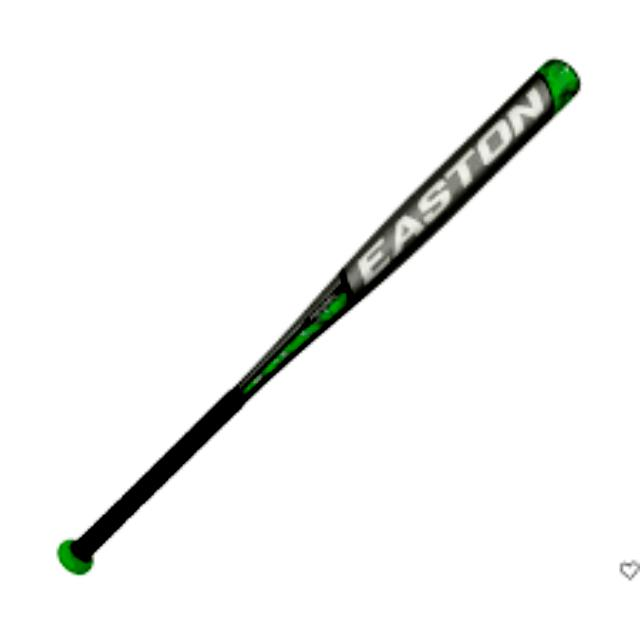baseball bat: (52, 54, 587, 577)
